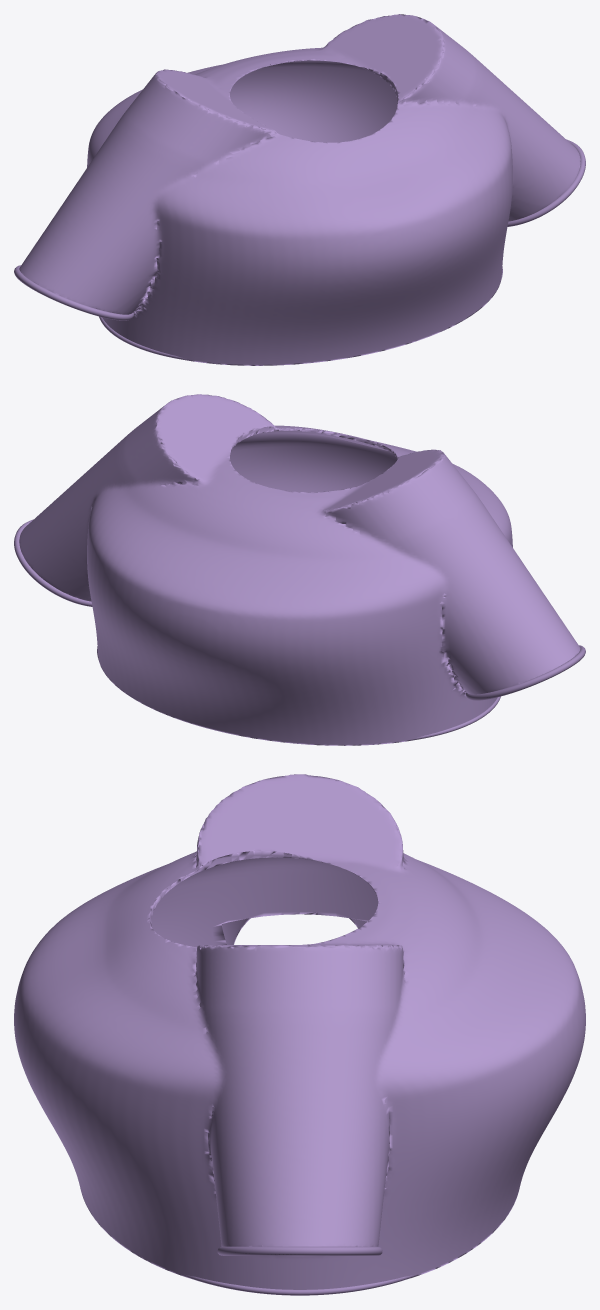
File: Feminine-sweatshirt-top.glb
3 renders of one model, top to bottom at view 1: azimuth 30°, elevation 25°; view 2: azimuth 150°, elevation 25°; view 3: azimuth 270°, elevation 25°, orthographic. The views are drawn at different scales.
Parts seen in each view (by area): view 1: Clothing / sweatshirt, Sleeve / seated cuff -1 export, Sleeve / seated cuff 1 export; view 2: Clothing / sweatshirt, Sleeve / seated cuff -1 export, Sleeve / seated cuff 1 export; view 3: Clothing / sweatshirt, Sleeve / seated cuff 1 export, Shirt / hem export.
Part boxes in pixels (x1,y1,x2,y2): Clothing / sweatshirt: (19,14,580,365); Sleeve / seated cuff -1 export: (14,265,134,320); Sleeve / seated cuff 1 export: (507,139,585,226); Clothing / sweatshirt: (19,394,580,745); Sleeve / seated cuff -1 export: (465,645,585,700); Sleeve / seated cuff 1 export: (14,519,92,606); Clothing / sweatshirt: (14,774,585,1289); Sleeve / seated cuff 1 export: (217,1246,382,1255); Shirt / hem export: (181,1273,418,1295).
Bounding box in the file's own units: 1.12 × 0.4544 × 0.7475.
